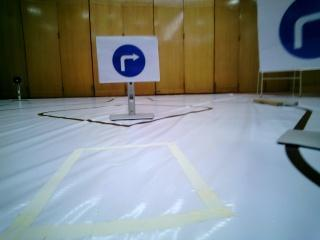right: (98, 37, 160, 83)
